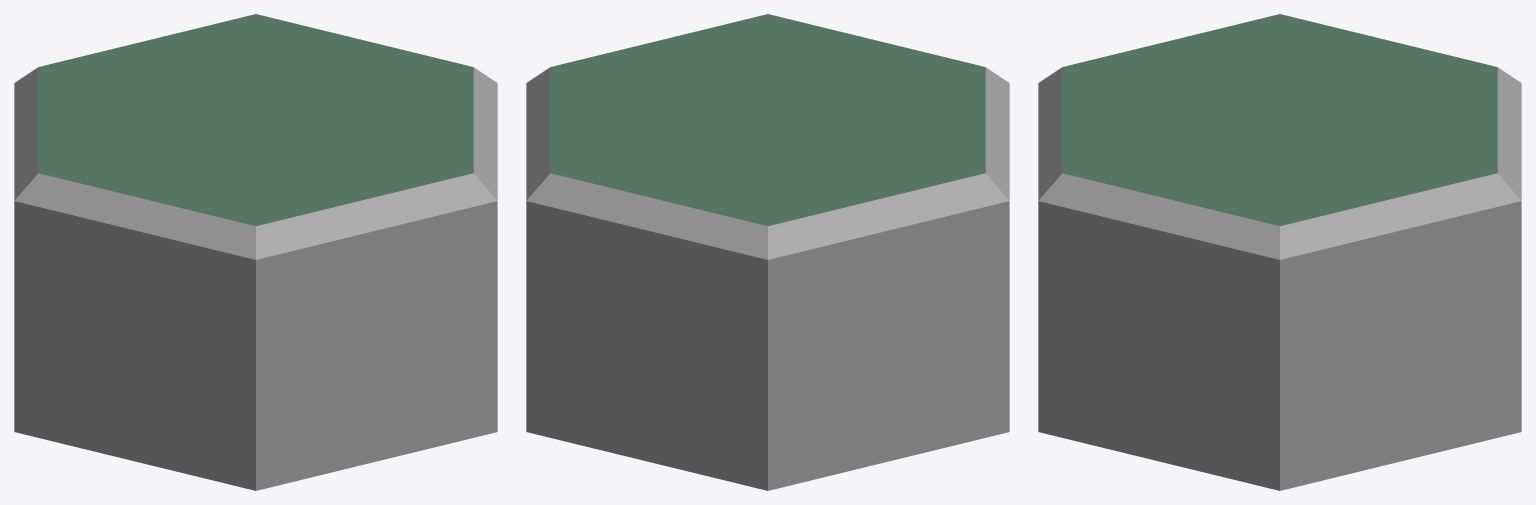
File: HexBase2.fbx
3 views of the same model, side by side, from view 1: azimuth 30°, elevation 25°; view 2: azimuth 150°, elevation 25°; view 3: azimuth 270°, elevation 25° (orthographic).
Parts seen in each view (by area): view 1: HexBase2; view 2: HexBase2; view 3: HexBase2.
Boxes of the visible parts, x1,y1,x2,y2 form: HexBase2: (14,14,497,490); HexBase2: (526,14,1009,490); HexBase2: (1038,14,1521,490).
Size of the model in its own units: 2 by 1 by 1.73.
